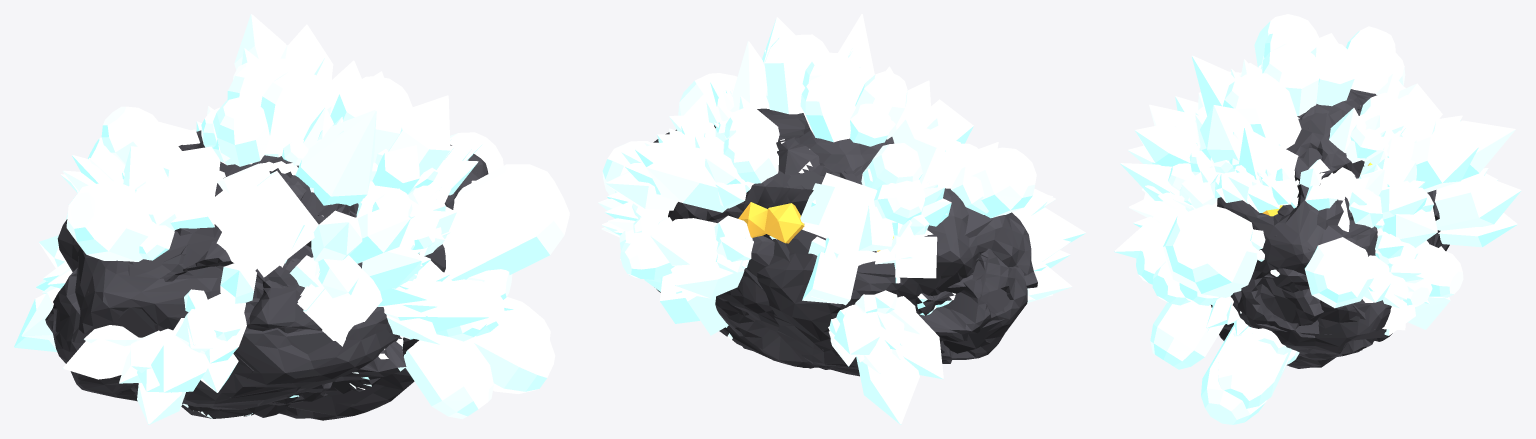
The model's file is asteroids.glb.
The picture shows the model from 3 angles, left to right: view 1: azimuth 30°, elevation 25°; view 2: azimuth 150°, elevation 25°; view 3: azimuth 270°, elevation 25°; orthographic projection. The views are drawn at different scales.
Parts seen in each view (by area): view 1: crystal_d_hi, crystal_a_hi, lumpy_a_hi, crystal_d_lo, crystal_b_hi, crystal_c_hi, crystal_a_lo, porous_hi, crystal_b_lo, crystal_c_lo, lumpy_a_lo, nugget_hi (+4 smaller); view 2: crystal_d_hi, crystal_a_hi, lumpy_a_hi, crystal_b_hi, crystal_a_lo, porous_hi, crystal_d_lo, crystal_c_hi, nugget_hi, crystal_b_lo, crystal_c_lo, porous_lo (+4 smaller); view 3: crystal_d_hi, crystal_a_lo, crystal_a_hi, porous_hi, crystal_d_lo, crystal_c_hi, crystal_c_lo, crystal_b_hi, lumpy_b_hi, porous_lo, crystal_b_lo, lumpy_b_lo (+3 smaller).
Boxes of the visible parts, <box> form: crystal_d_hi: <box>68,58,569,419</box>; crystal_a_hi: <box>14,24,478,424</box>; lumpy_a_hi: <box>57,144,418,409</box>; crystal_d_lo: <box>66,72,555,393</box>; crystal_b_hi: <box>65,122,456,303</box>; crystal_c_hi: <box>42,59,513,404</box>; crystal_a_lo: <box>36,14,450,392</box>; porous_hi: <box>45,144,488,411</box>; crystal_b_lo: <box>216,181,382,346</box>; crystal_c_lo: <box>171,57,489,393</box>; lumpy_a_lo: <box>88,231,399,397</box>; nugget_hi: <box>131,130,414,420</box>; crystal_d_hi: <box>602,71,1035,369</box>; crystal_a_hi: <box>598,49,1085,424</box>; lumpy_a_hi: <box>757,159,1037,369</box>; crystal_b_hi: <box>675,95,973,305</box>; crystal_a_lo: <box>605,17,1084,373</box>; porous_hi: <box>654,108,1027,359</box>; crystal_d_lo: <box>633,34,1036,232</box>; crystal_c_hi: <box>601,14,951,359</box>; nugget_hi: <box>668,165,863,376</box>; crystal_b_lo: <box>629,99,973,335</box>; crystal_c_lo: <box>614,41,856,366</box>; porous_lo: <box>653,115,1020,353</box>; crystal_d_hi: <box>1136,17,1463,408</box>; crystal_a_lo: <box>1134,105,1521,247</box>; crystal_a_hi: <box>1128,96,1517,302</box>; porous_hi: <box>1217,112,1449,357</box>; crystal_d_lo: <box>1201,14,1432,424</box>; crystal_c_hi: <box>1120,55,1429,335</box>; crystal_c_lo: <box>1114,115,1414,292</box>; crystal_b_hi: <box>1181,33,1442,236</box>; lumpy_b_hi: <box>1260,176,1359,325</box>; porous_lo: <box>1230,128,1385,349</box>; crystal_b_lo: <box>1144,71,1450,335</box>; lumpy_b_lo: <box>1262,197,1350,323</box>.
Bounding box in the file's own units: 3.24 × 2.23 × 2.71.
